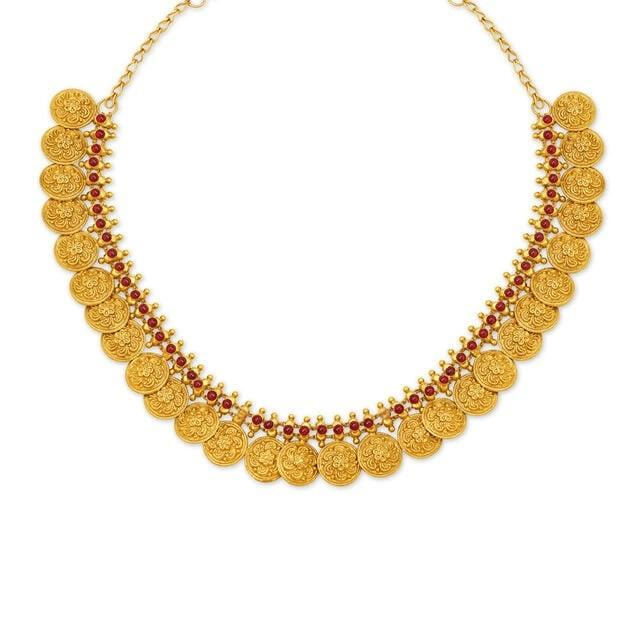missing gem: (238, 410, 246, 418), (382, 410, 390, 418)
